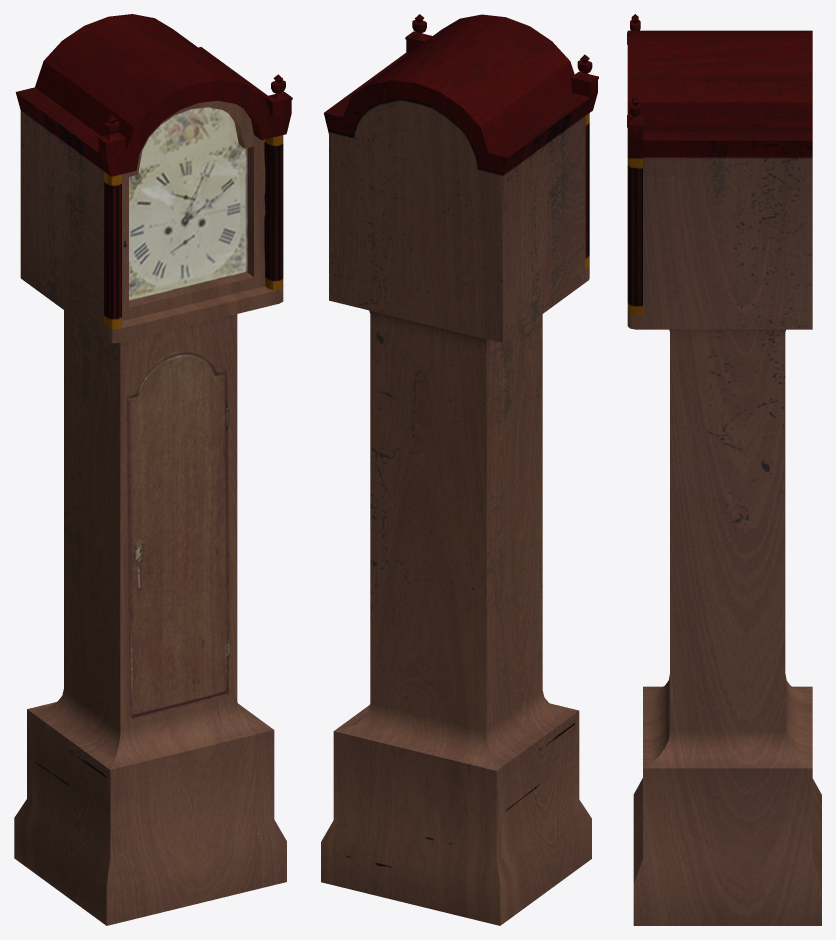
The model's file is watcher.glb.
3 views of the same model, side by side, from view 1: azimuth 30°, elevation 25°; view 2: azimuth 150°, elevation 25°; view 3: azimuth 270°, elevation 25° (orthographic). The views are drawn at different scales.
Parts seen in each view (by area): view 1: Head; view 2: Head; view 3: Head.
Part boxes in pixels (x1=…): Head: x1=14, y1=14, x2=292, y2=925; Head: x1=321, y1=14, x2=598, y2=925; Head: x1=627, y1=14, x2=821, y2=925.
Size of the model in its own units: 2.59 by 10.93 by 2.3.
1 material, 1 textured.
